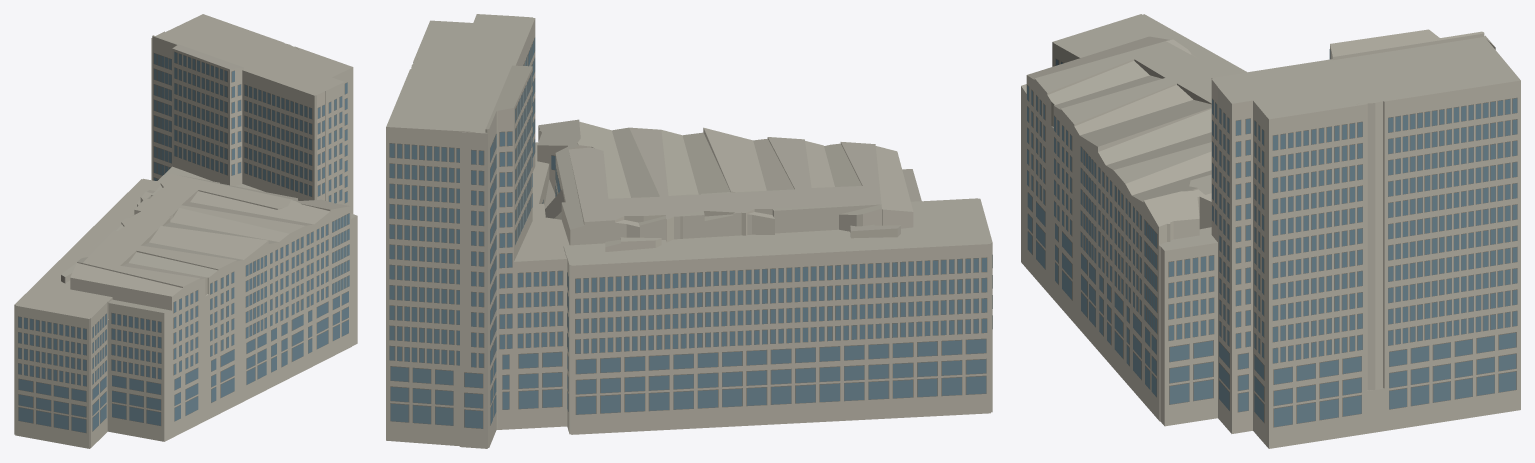
The model's file is hva-rhijnspoorplein-2.glb.
3 renders of one model, left to right at view 1: azimuth 30°, elevation 25°; view 2: azimuth 150°, elevation 25°; view 3: azimuth 270°, elevation 25°, orthographic. The views are drawn at different scales.
Visible parts, largest first — view 1: hva-rhijnspoorplein-2; view 2: hva-rhijnspoorplein-2; view 3: hva-rhijnspoorplein-2.
Boxes of the visible parts, <box> form: hva-rhijnspoorplein-2: <box>14,14,357,448</box>; hva-rhijnspoorplein-2: <box>386,14,992,448</box>; hva-rhijnspoorplein-2: <box>1021,14,1520,448</box>.
Bounding box in the file's own units: 90.63 × 55.5 × 74.48.
